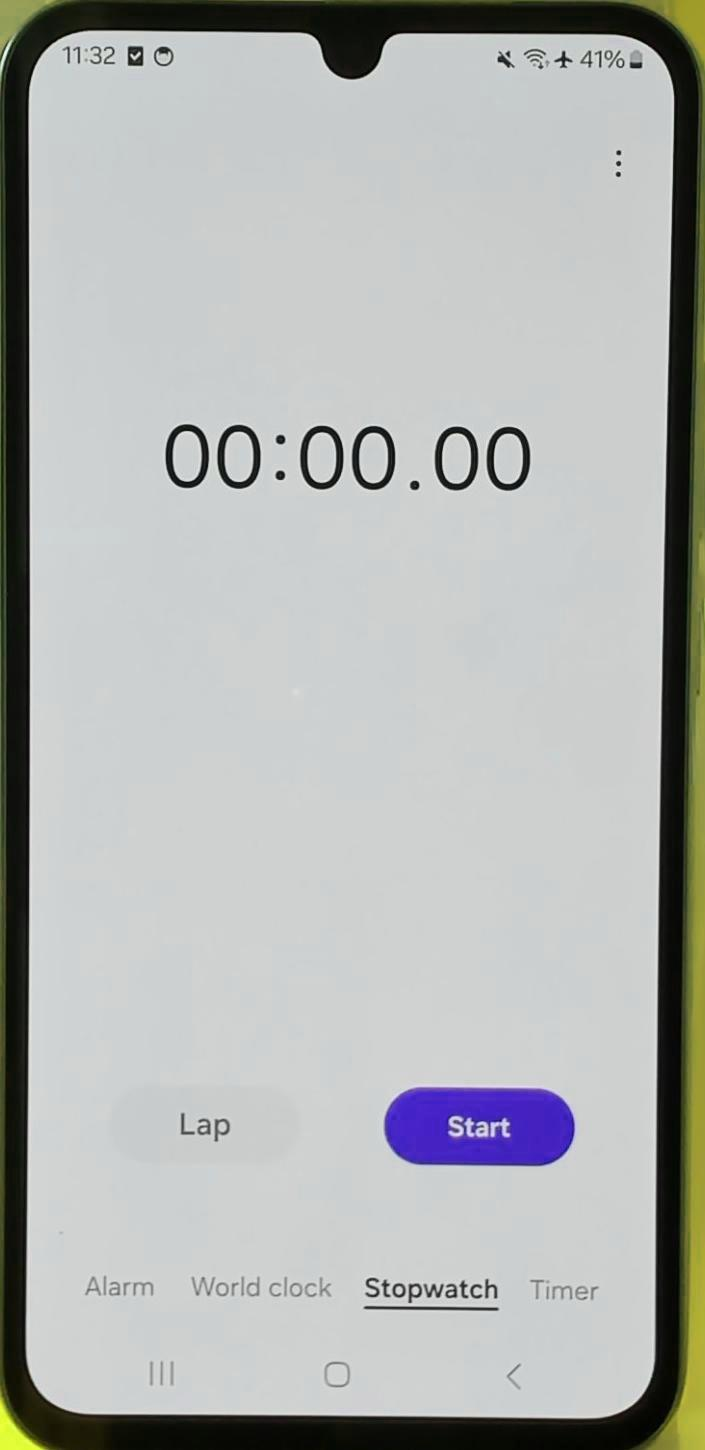CommunBotton: (380, 1080, 578, 1166), (356, 1260, 512, 1316), (188, 1262, 336, 1308), (160, 1094, 246, 1156), (76, 1266, 162, 1310), (532, 1268, 610, 1308), (490, 1354, 536, 1398), (144, 1346, 184, 1392), (316, 1350, 356, 1392)
menu: (604, 150, 632, 190)
